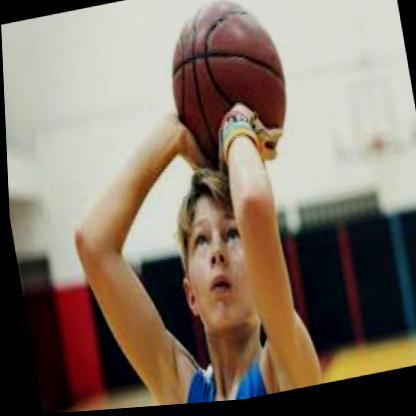basketball: (157, 0, 295, 178)
